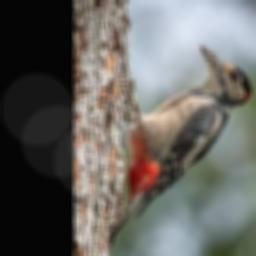Woodpecker: (108, 45, 252, 248)
